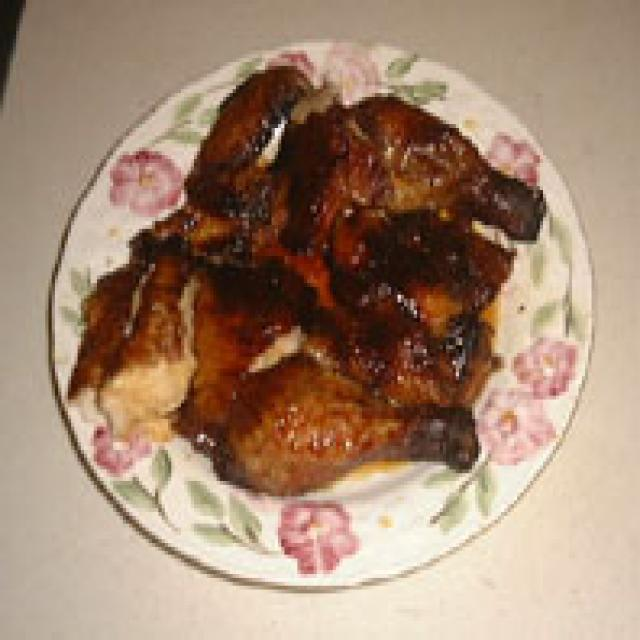Chicken: (82, 59, 546, 513)
